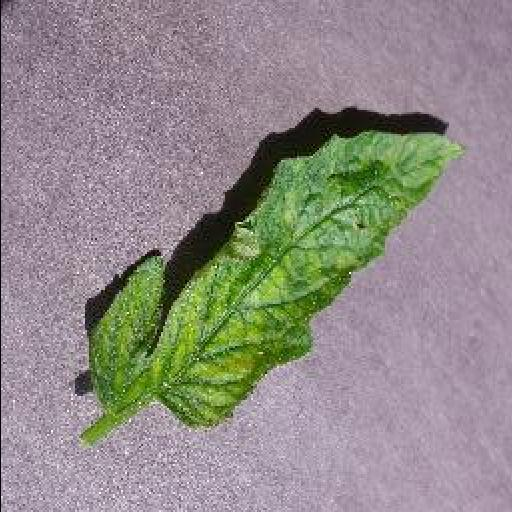Mosaic Virus: (86, 128, 468, 430)
